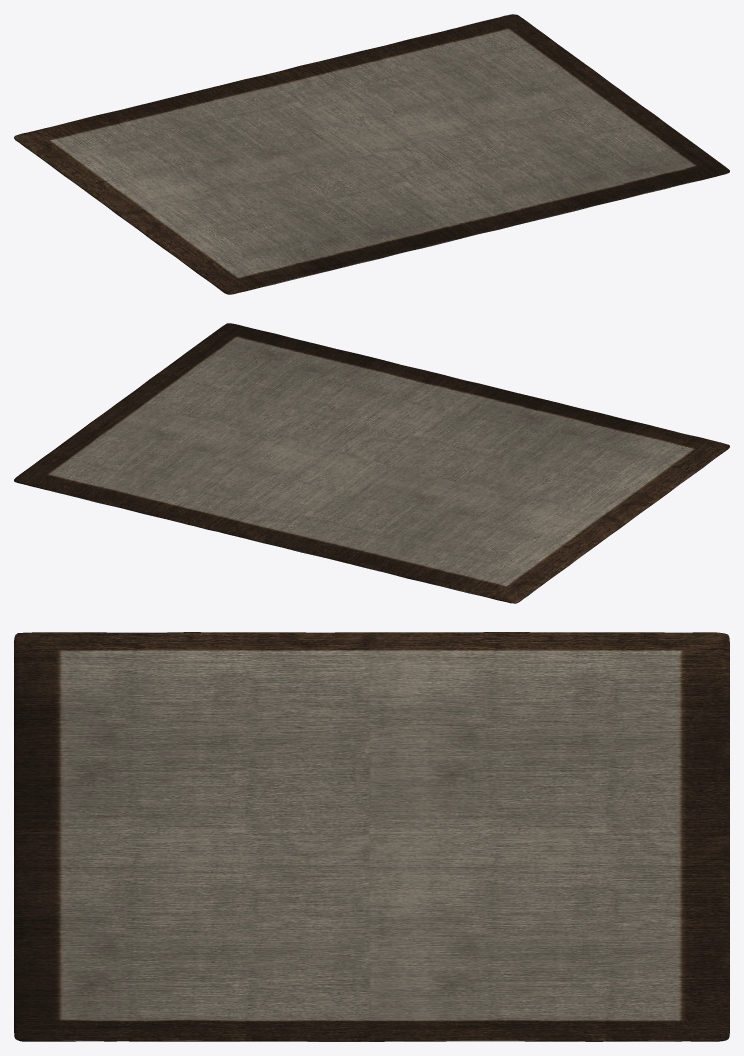
Rendered from chuantongzhoshiditan02.FBX.
3 renders of one model, top to bottom at view 1: azimuth 30°, elevation 25°; view 2: azimuth 150°, elevation 25°; view 3: azimuth 270°, elevation 25°, orthographic. The views are drawn at different scales.
Visible parts, largest first — view 1: ArchInteri; view 2: ArchInteri; view 3: ArchInteri.
Part boxes in pixels (x1,y1,x2,y2): ArchInteri: [14, 14, 729, 294]; ArchInteri: [14, 323, 729, 603]; ArchInteri: [14, 632, 729, 1041].
Bounding box in the file's own units: 2539 × 14.59 × 1885.
1 material, 1 textured.
